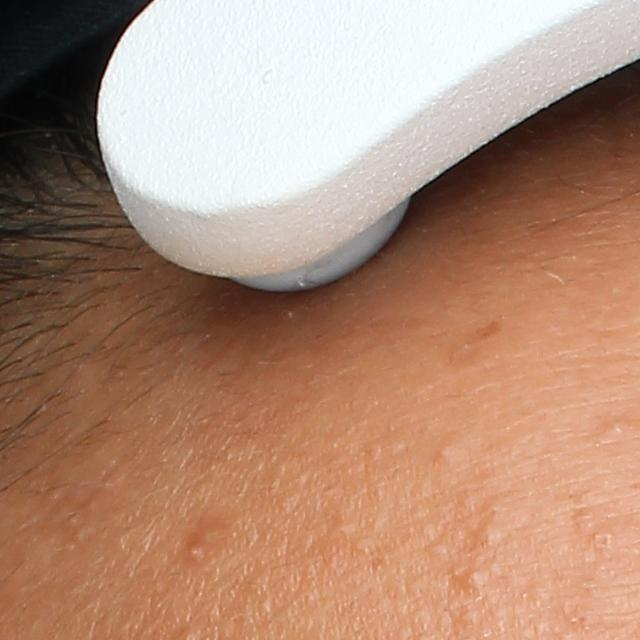comedo: (600, 417, 632, 442), (473, 522, 504, 545), (590, 526, 615, 551), (325, 522, 356, 541), (435, 441, 460, 462), (465, 568, 485, 589)
papule: (186, 541, 206, 561)
